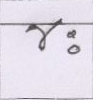anusvara: (68, 30, 76, 39)
